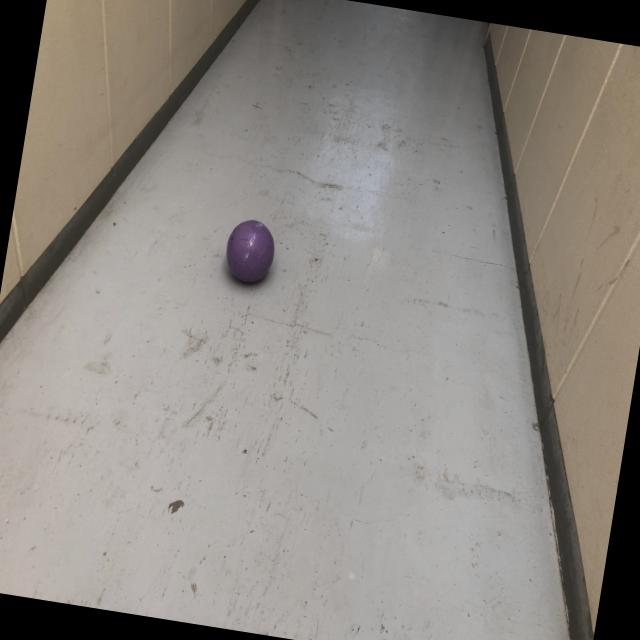purple_ball: (222, 215, 278, 283)
